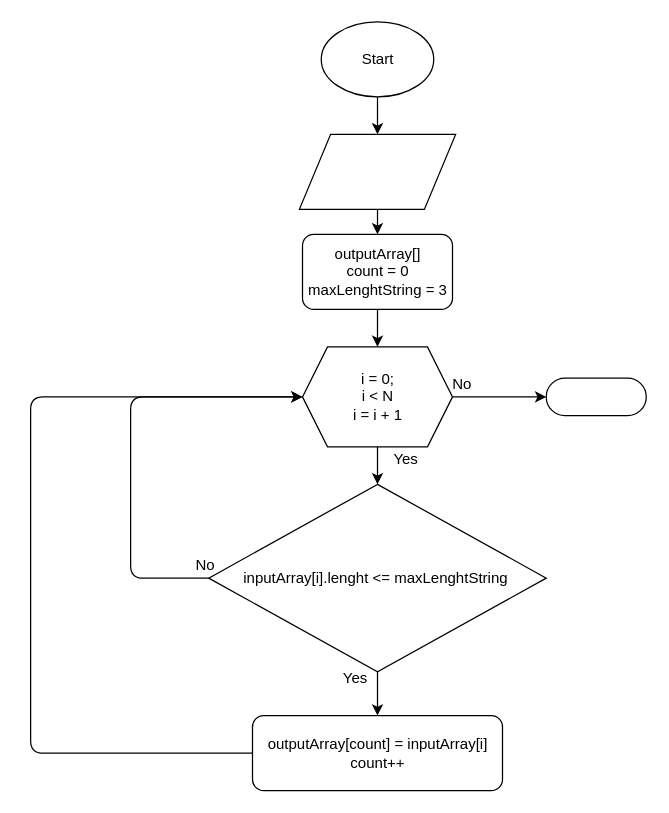
Image size: 669x813. Some labels were removed from this diagram. Here are the shapes that lost their labels. From the top down, the centre of each, then its label:
At point (377, 171): "inputArray[] N".
At point (595, 396): "End".
